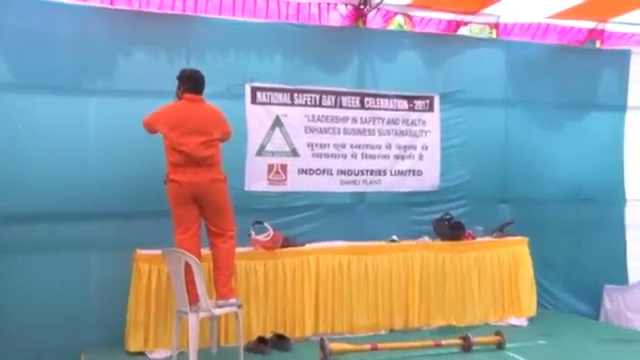helmet_off: (173, 68, 204, 102)
person: (140, 69, 246, 313)
